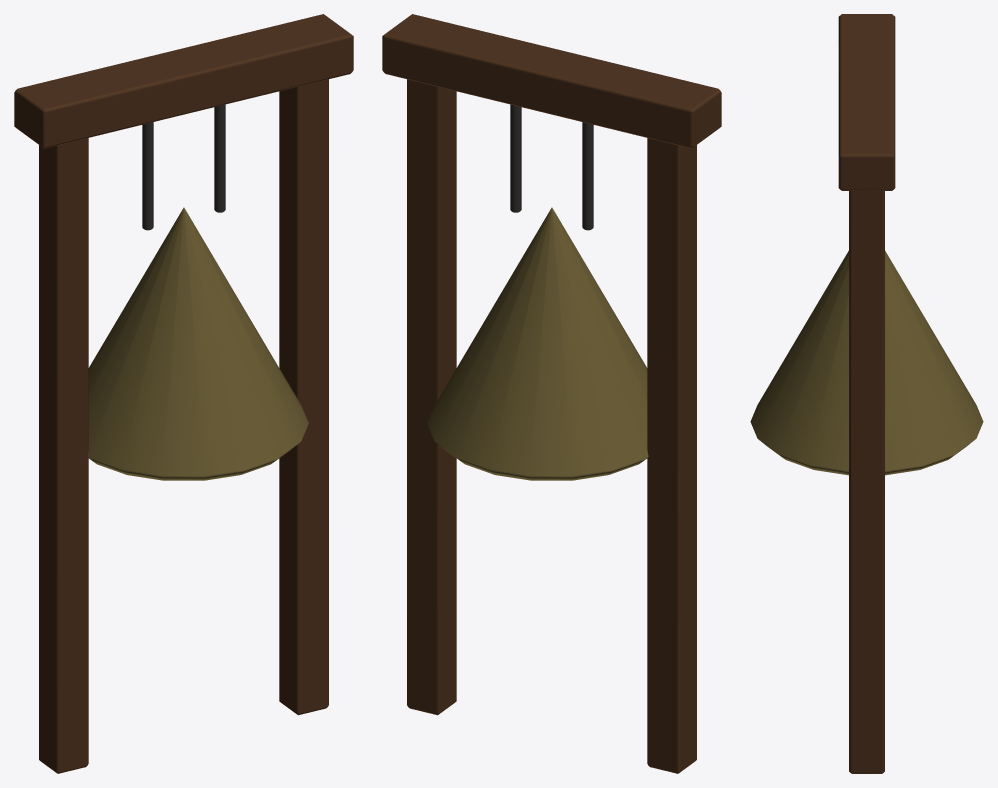
Rendered from belfry-bell.4169d86a.glb.
3 renders of one model, left to right at view 1: azimuth 30°, elevation 25°; view 2: azimuth 150°, elevation 25°; view 3: azimuth 270°, elevation 25°, orthographic. The views are drawn at different scales.
Visible parts, largest first — view 1: body, swing; view 2: body, swing; view 3: body, swing.
Boxes of the visible parts, <box> form: body: <box>14,14,353,773</box>; swing: <box>87,104,308,480</box>; body: <box>382,14,721,773</box>; swing: <box>427,104,648,480</box>; body: <box>838,14,895,773</box>; swing: <box>750,251,983,475</box>.
Size of the model in its own units: 1.3 by 2.68 by 0.9.
